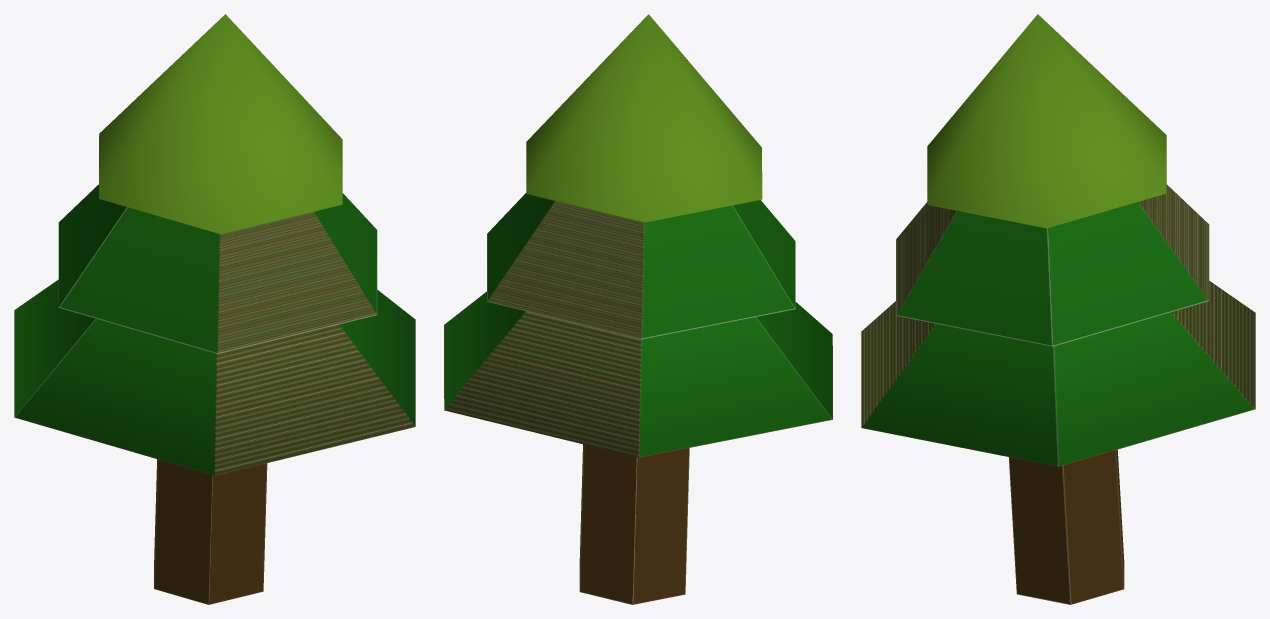
Rendered from tree_cut_down_02.fbx.
3 renders of one model, left to right at view 1: azimuth 30°, elevation 25°; view 2: azimuth 150°, elevation 25°; view 3: azimuth 270°, elevation 25°, orthographic. The views are drawn at different scales.
Parts seen in each view (by area): view 1: pCylinder1; view 2: pCylinder1; view 3: pCylinder1.
Part boxes in pixels (box(x1,y1,x2,y2)): pCylinder1: box(14, 14, 415, 604); pCylinder1: box(444, 14, 832, 604); pCylinder1: box(861, 14, 1255, 604).
Bounding box in the file's own units: 3.3 × 4.52 × 2.85.
